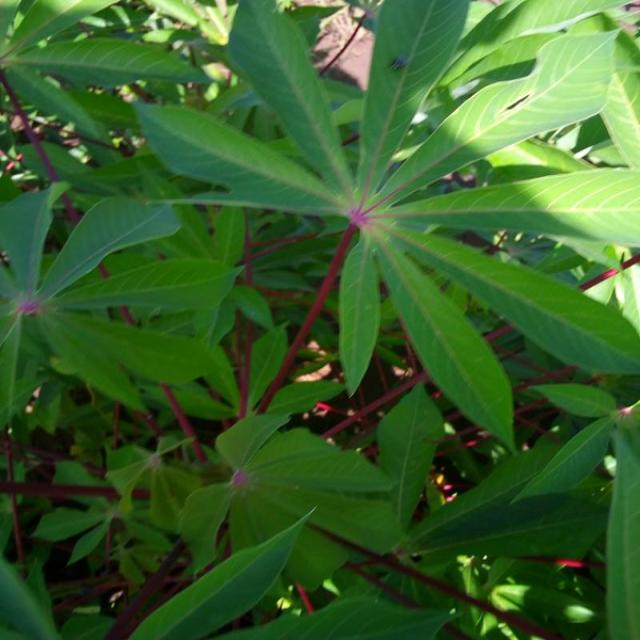cassava leaf: (130, 0, 639, 450)
